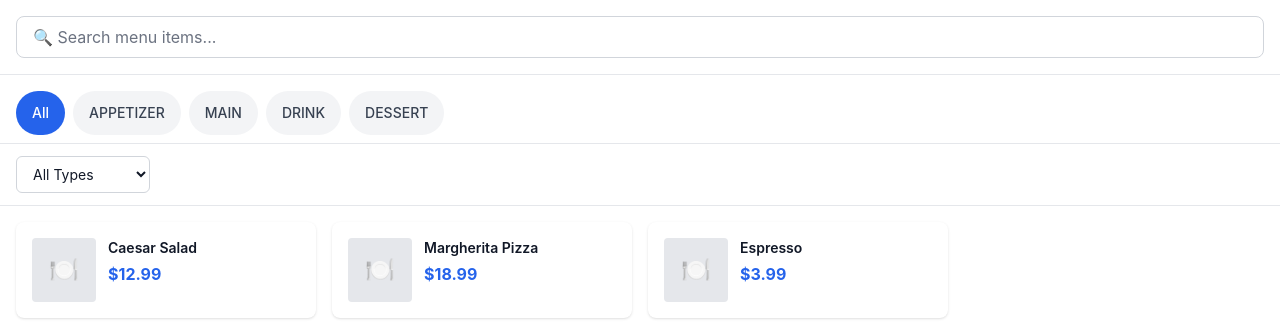
Test: MenuBrowser › filters items by search query
Type "pizza" into the field with placeholder "🔍 Search menu items..." at (640, 37), box [16, 16, 1264, 58]
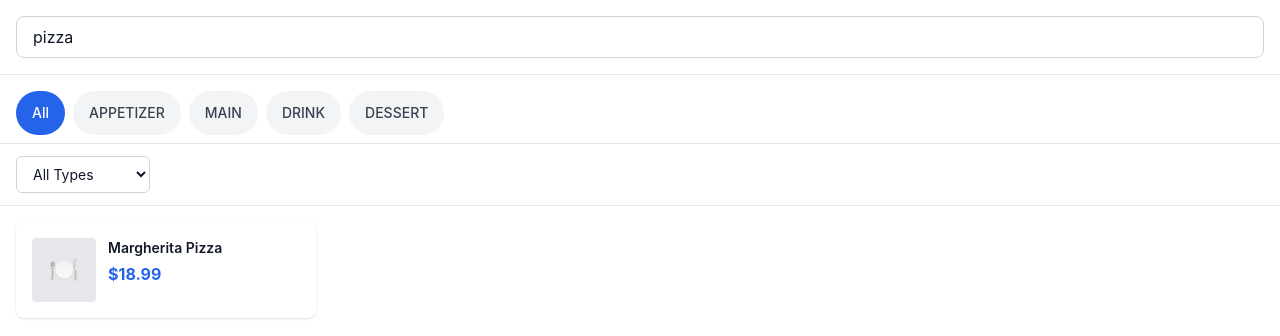
Expected: the heading "Margherita Pizza" is shown, [108, 239, 222, 256]
Expected: the button "Caesar Salad" is gone
Expected: the button "Espresso" is gone
